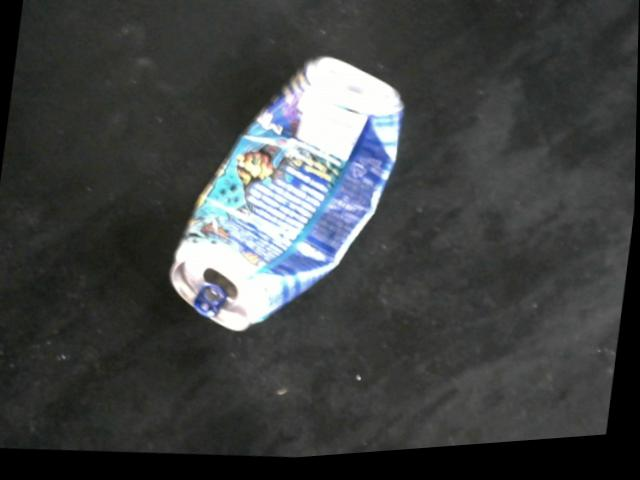can: (174, 59, 401, 336)
